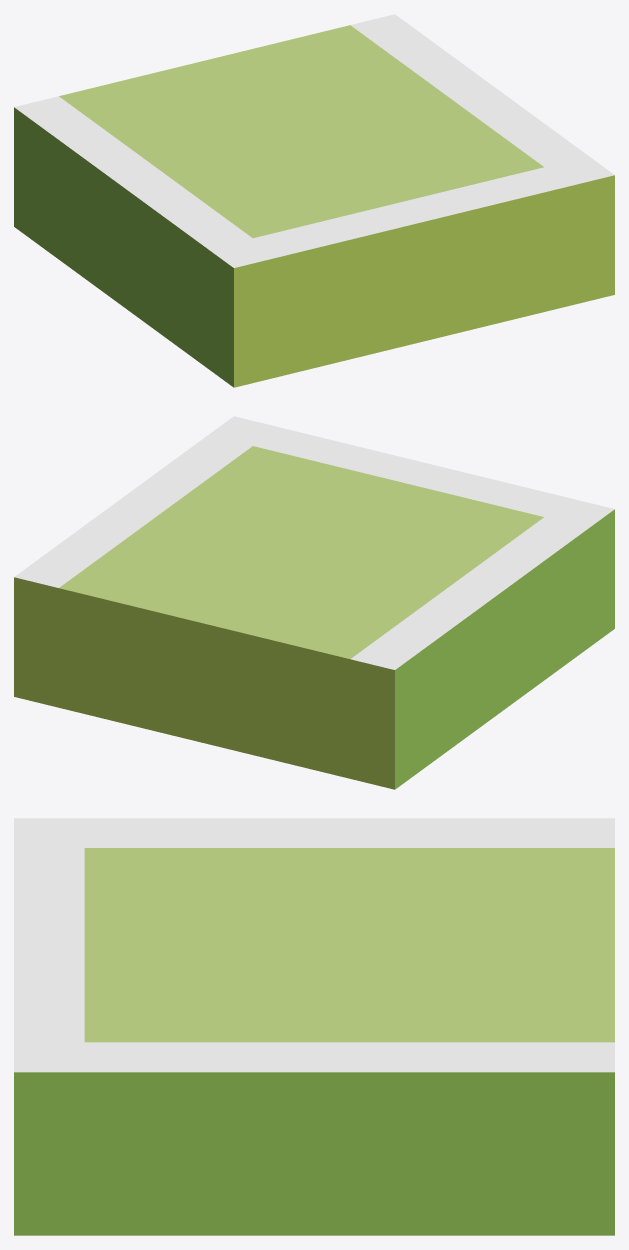
The model's file is floor_green3.fbx.
The picture shows the model from 3 angles, top to bottom: view 1: azimuth 30°, elevation 25°; view 2: azimuth 150°, elevation 25°; view 3: azimuth 270°, elevation 25°; orthographic projection. The views are drawn at different scales.
Visible parts, largest first — view 1: floor_green3; view 2: floor_green3; view 3: floor_green3.
Part boxes in pixels (box(x1,y1,x2,y2)): floor_green3: box(14, 14, 614, 387); floor_green3: box(14, 416, 614, 789); floor_green3: box(14, 818, 614, 1235).
Size of the model in its own units: 100 by 30 by 100.
